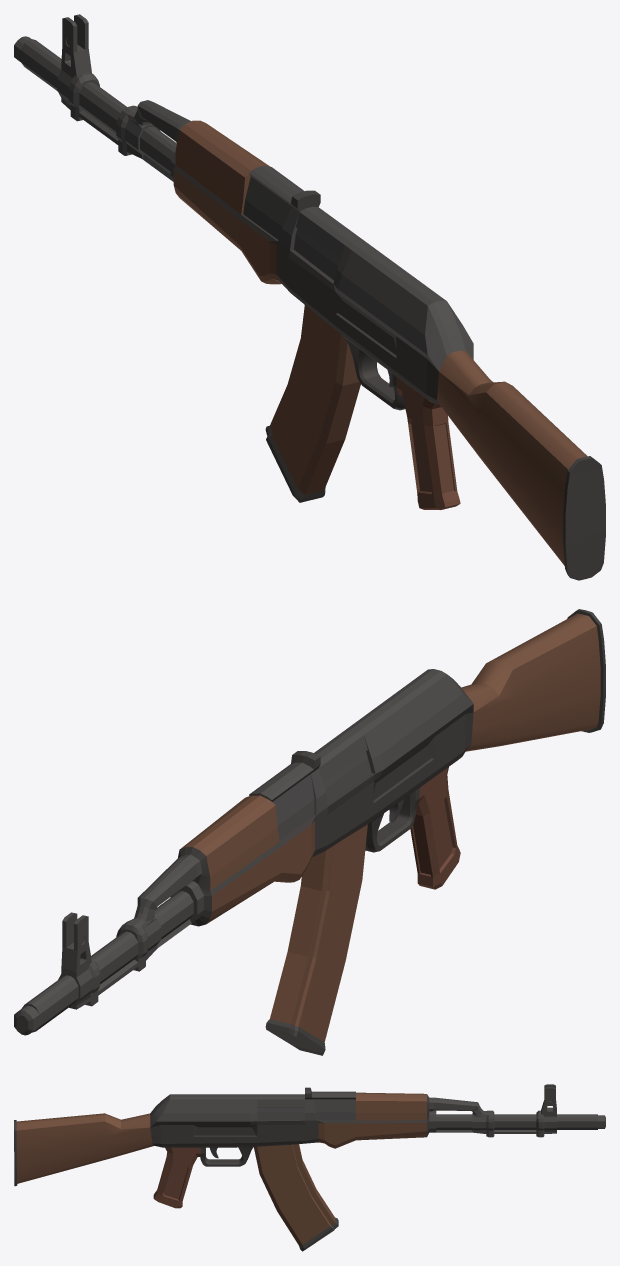
The model's file is Mod_AK_74.glb.
3 views of the same model, one above another, from view 1: azimuth 30°, elevation 25°; view 2: azimuth 150°, elevation 25°; view 3: azimuth 270°, elevation 25° (orthographic). The views are drawn at different scales.
Parts seen in each view (by area): view 1: Mod_AK_74; view 2: Mod_AK_74; view 3: Mod_AK_74.
Boxes of the visible parts, x1,y1,x2,y2 form: Mod_AK_74: (14,14,605,580); Mod_AK_74: (14,609,605,1055); Mod_AK_74: (14,1084,605,1251).
Bounding box in the file's own units: 0.0442 × 0.2837 × 0.9379.
Materials: 1 (1 with a texture image).
